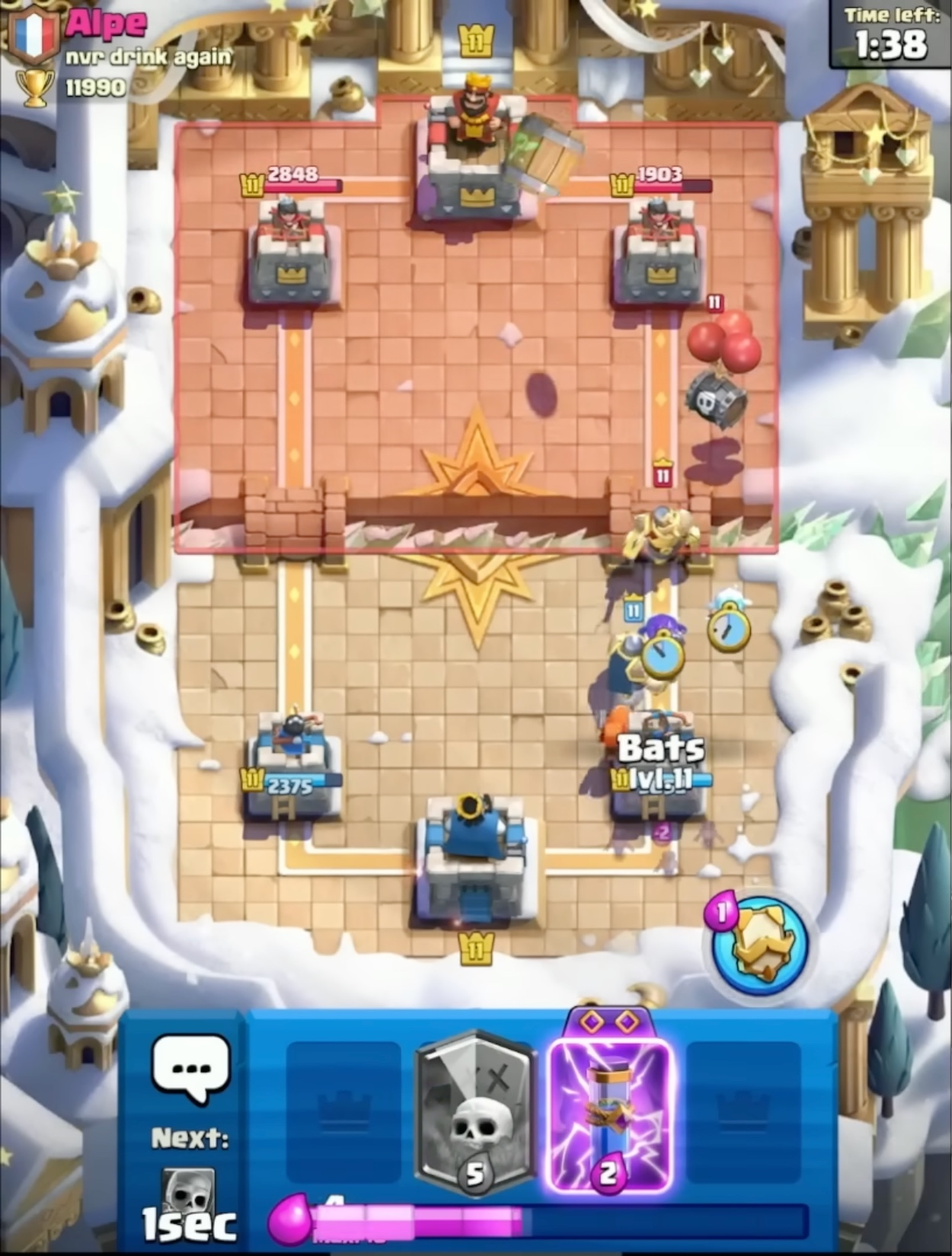goblin-barrel: (499, 106, 591, 204)
hero-knight: (614, 452, 712, 587)
skeleton-barrel: (680, 292, 763, 439)
